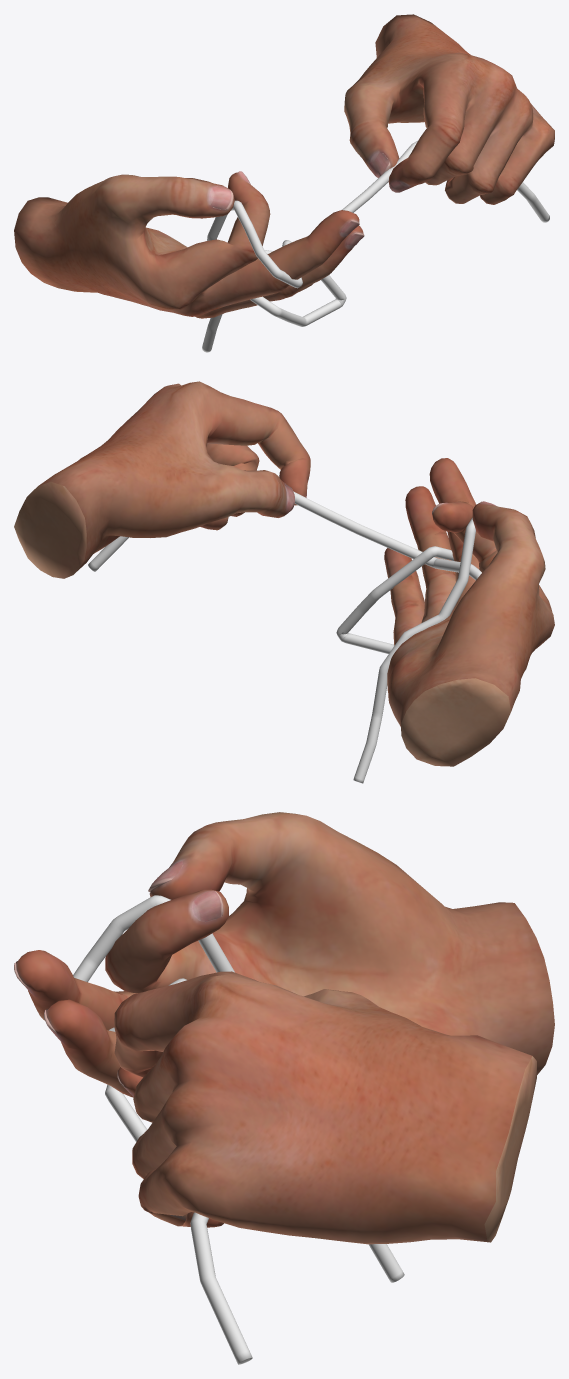
File: mfk_part3_assi_pinch.fbx
The picture shows the model from 3 angles, top to bottom: view 1: azimuth 30°, elevation 25°; view 2: azimuth 150°, elevation 25°; view 3: azimuth 270°, elevation 25°; orthographic projection. The views are drawn at different scales.
Parts seen in each view (by area): view 1: Hand_R, Hand_L, faden_R, faden_L; view 2: Hand_R, Hand_L, faden_R, faden_L; view 3: Hand_L, Hand_R, faden_L, faden_R.
Boxes of the visible parts, box(x1,y1,x2,y2) form: Hand_R: box(14, 171, 364, 318); Hand_L: box(344, 14, 554, 204); faden_R: box(202, 200, 346, 352); faden_L: box(250, 141, 549, 320); Hand_R: box(384, 458, 554, 766); Hand_L: box(14, 381, 310, 578); faden_R: box(336, 517, 475, 783); faden_L: box(88, 491, 481, 580); Hand_L: box(114, 971, 536, 1244); Hand_R: box(14, 812, 554, 1097); faden_L: box(105, 978, 252, 1364); faden_R: box(73, 895, 404, 1282).
Size of the model in its own units: 32.47 by 18.97 by 19.89.
